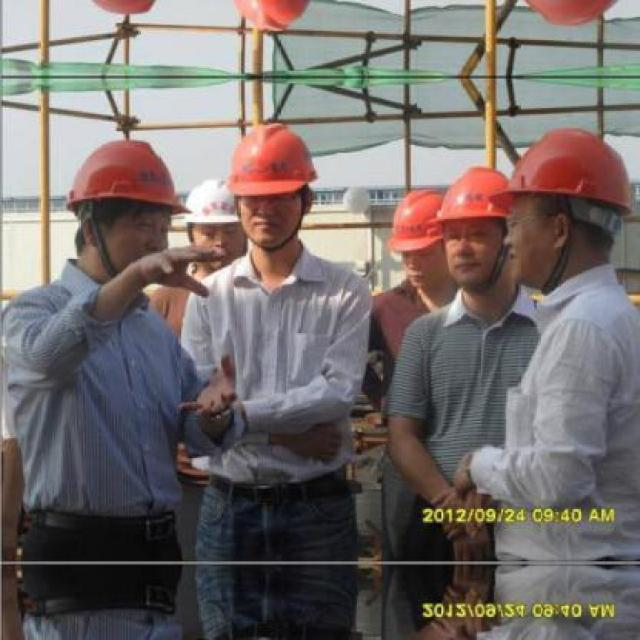helmet: (488, 119, 629, 237), (56, 124, 184, 224), (226, 120, 323, 207), (422, 150, 512, 227), (370, 185, 448, 261), (172, 172, 242, 232)
